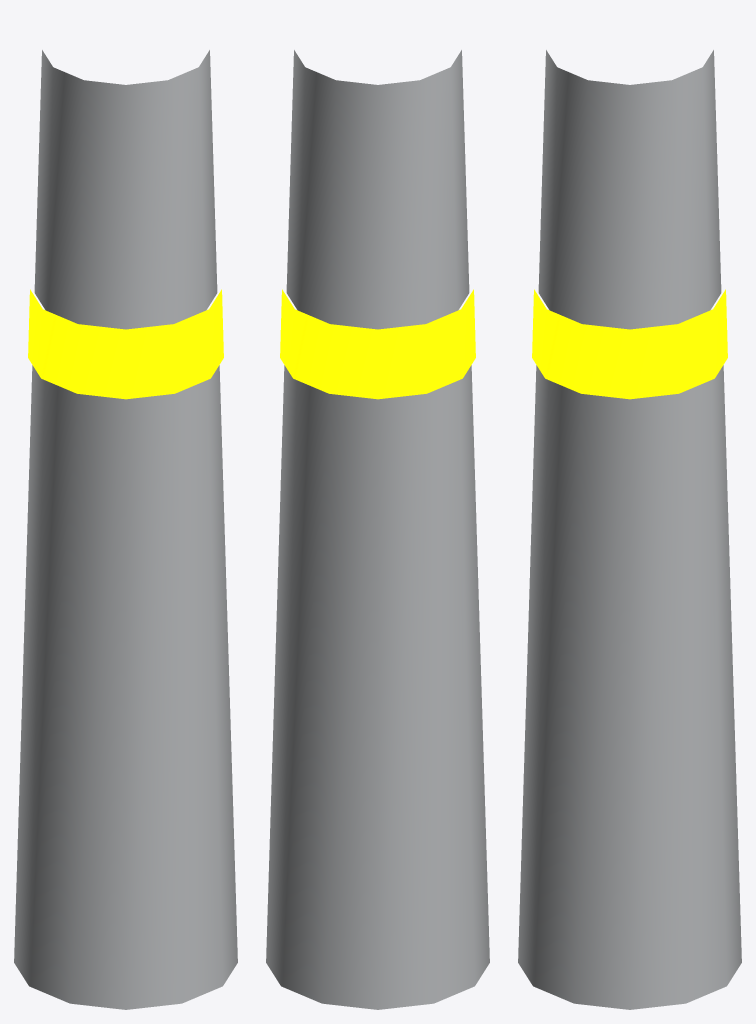
Rendered from ext_bollard_03.glb.
3 views of the same model, side by side, from view 1: azimuth 30°, elevation 25°; view 2: azimuth 150°, elevation 25°; view 3: azimuth 270°, elevation 25° (orthographic).
Parts seen in each view (by area): view 1: Post_Lower, Post_Upper, Amber_Band; view 2: Post_Lower, Post_Upper, Amber_Band; view 3: Post_Lower, Post_Upper, Amber_Band.
Boxes of the visible parts, box(x1,y1,x2,y2) form: Post_Lower: box(14, 365, 237, 1009); Post_Upper: box(34, 50, 217, 329); Amber_Band: box(28, 289, 223, 399); Post_Lower: box(266, 365, 489, 1009); Post_Upper: box(286, 50, 469, 329); Amber_Band: box(280, 289, 475, 399); Post_Lower: box(518, 365, 741, 1009); Post_Upper: box(538, 50, 721, 329); Amber_Band: box(532, 289, 727, 399).
Size of the model in its own units: 0.2 by 0.9 by 0.2.
